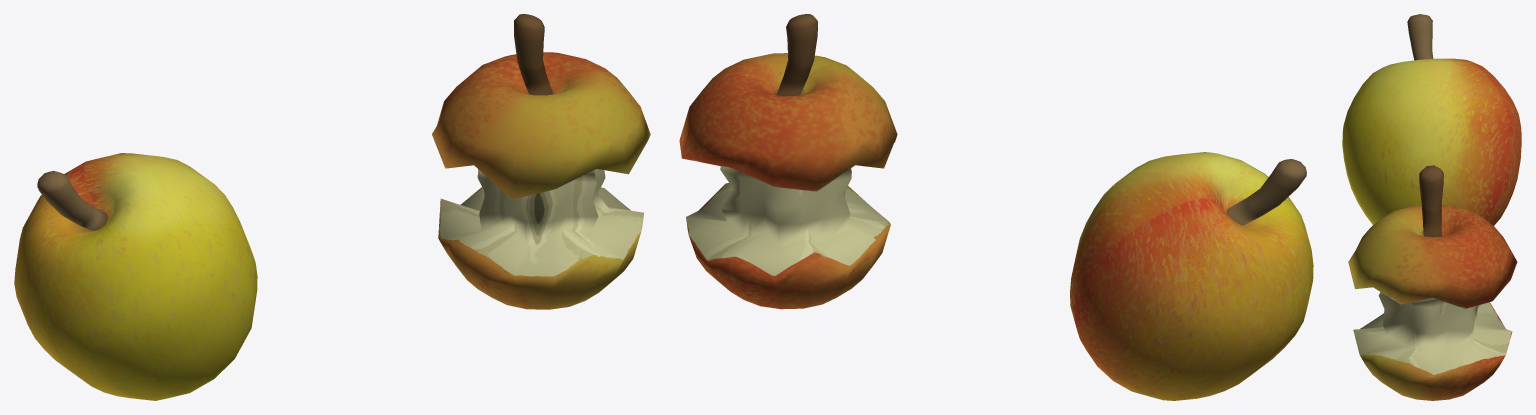
The model's file is applesexport.fbx.
The picture shows the model from 3 angles, left to right: view 1: azimuth 30°, elevation 25°; view 2: azimuth 150°, elevation 25°; view 3: azimuth 270°, elevation 25°; orthographic projection. The views are drawn at different scales.
Visible parts, largest first — view 1: pSphere1, pSphere2; view 2: pSphere1, pSphere2; view 3: pSphere2, pSphere1.
Part boxes in pixels (x1,y1,x2,y2): pSphere1: (14, 153, 257, 400); pSphere2: (432, 14, 650, 309); pSphere1: (1070, 152, 1313, 400); pSphere2: (679, 14, 897, 309); pSphere2: (1348, 165, 1517, 400); pSphere1: (1342, 14, 1521, 225).
Bounding box in the file's own units: 5.44 × 2.44 × 1.82.
